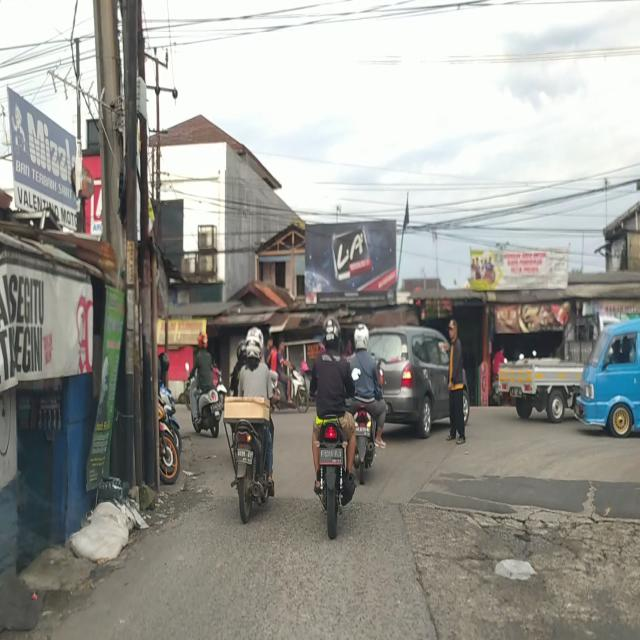Drain Hole: (446, 505, 640, 585)
